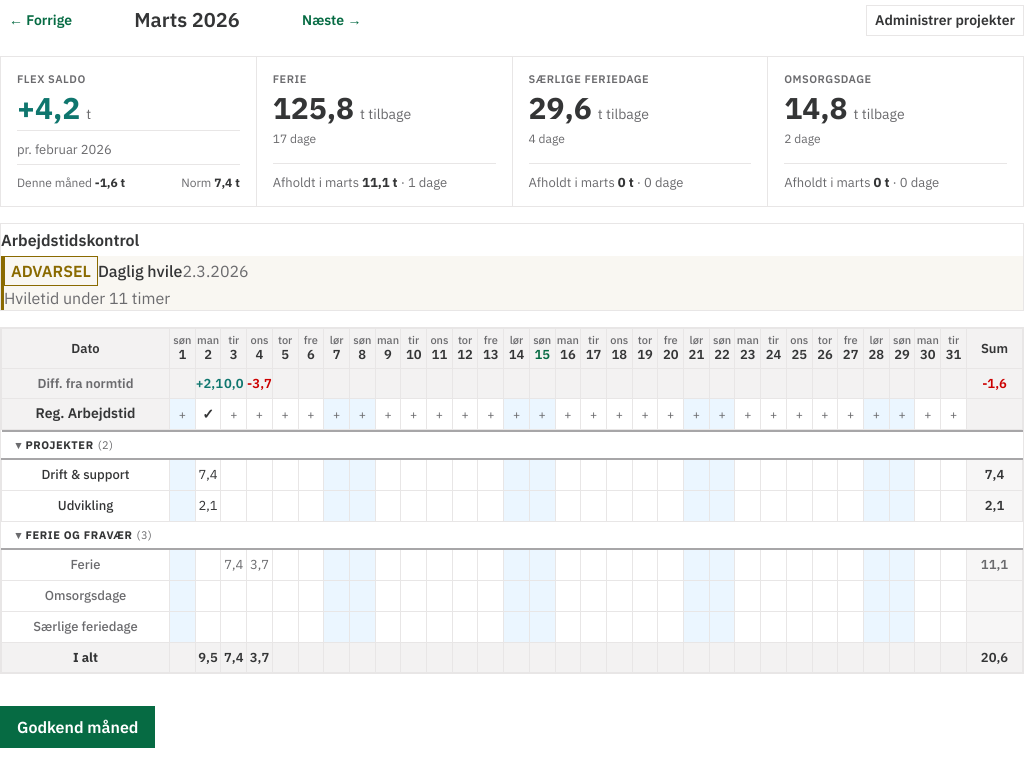
Test: SkemaPage — R11/R16 manager modal wiring › R16/B2 flush-failure: a FAILED flush save ABORTS the preference write — NO PUT, NO refetch, the error surfaces, local edits intact
Check: the text "Drift & support" is shown, box [2,459,170,490]
Check: the cell does not show ""
// A pending debounced cell edit (the flush will fire — and fail)
Type "2" into the field named "Udvikling dag 3" at (234, 506), box [221,491,246,521]
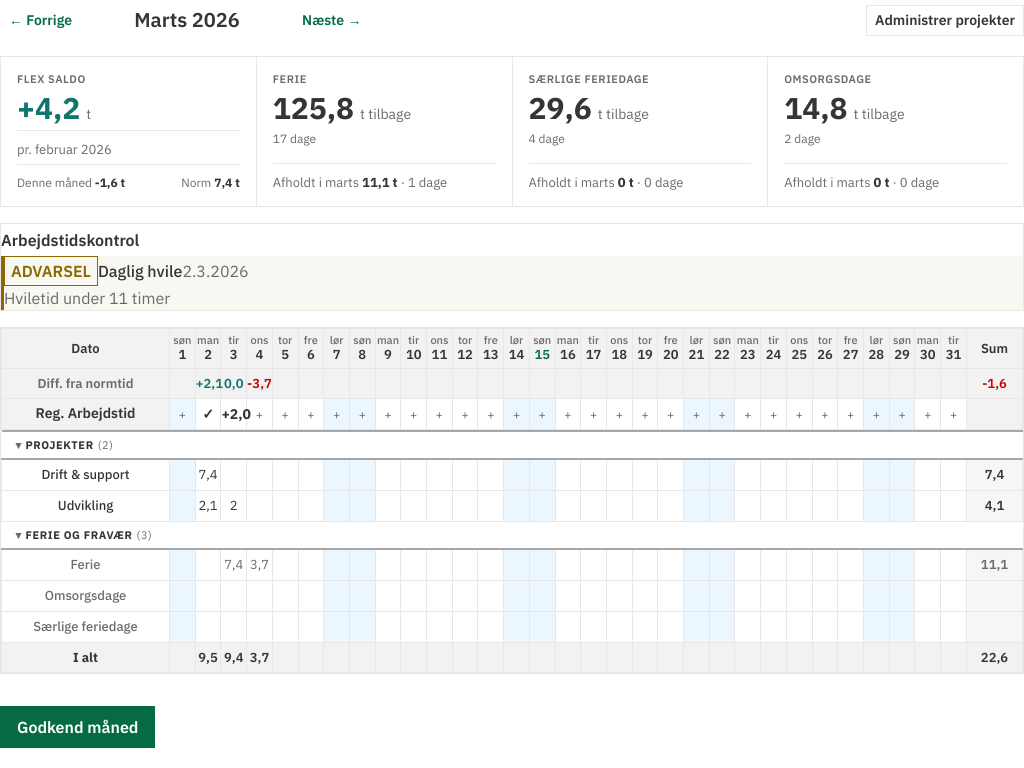
Click the button "Administrer projekter" at (945, 20), box [866,4,1023,36]
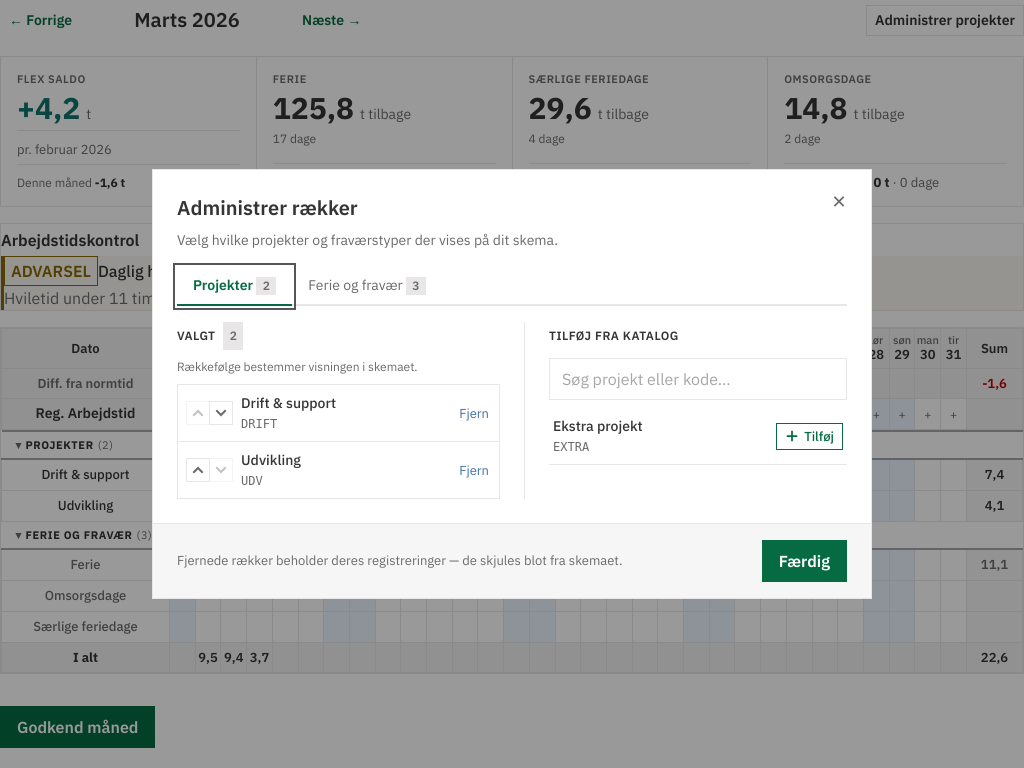
Check: the heading "Administrer rækker" is shown, box [177,194,358,221]
Click the button with aria-label "Fjern Drift & support" at (474, 413), box [457,400,491,426]
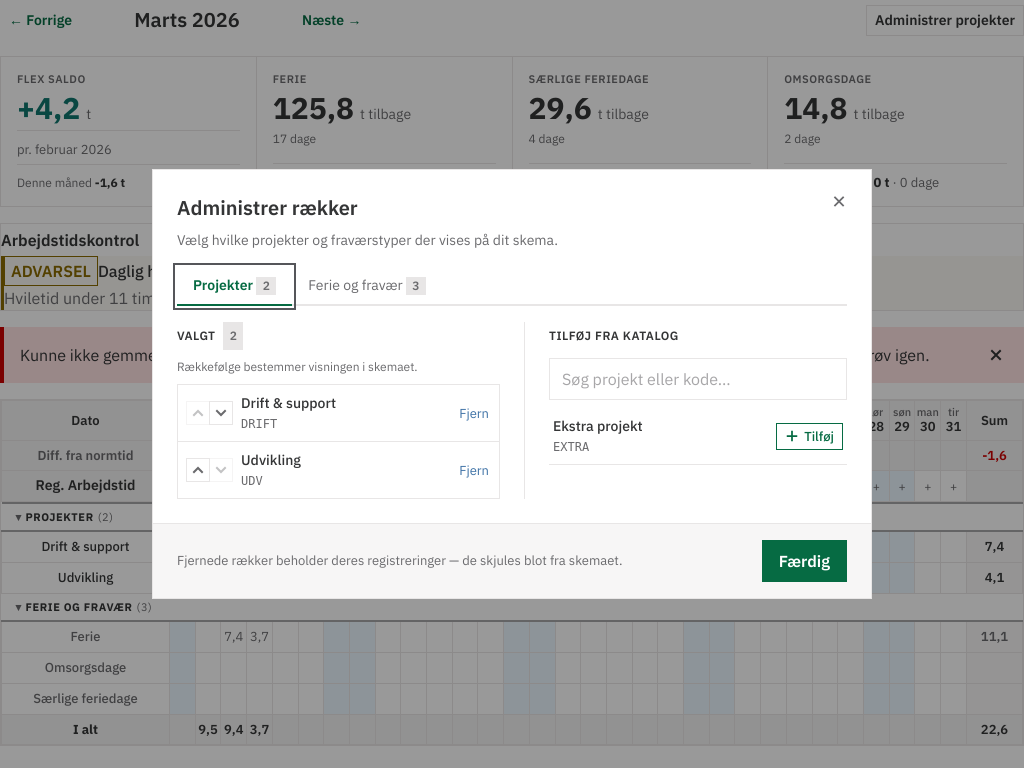
Check: the row "Drift & support 7,4" is shown, box [2,531,1022,562]
Check: the text "Kunne ikke gemme rækkeindstillingerne" is shown, box [20,345,316,365]
